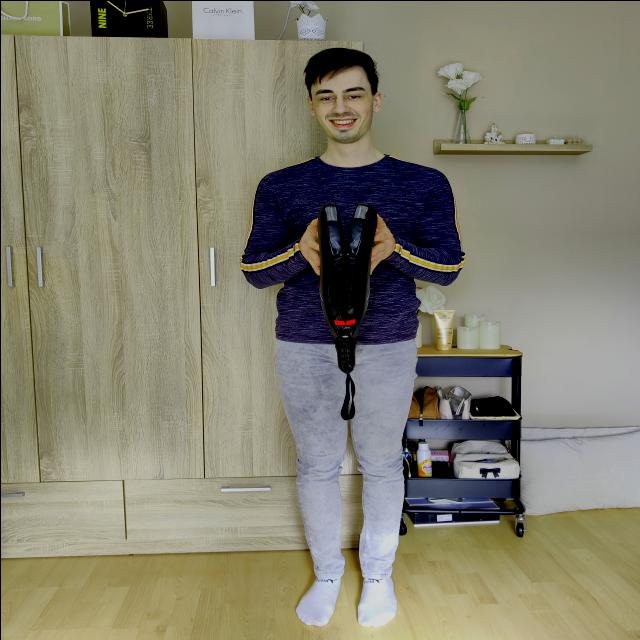paddle: (314, 198, 378, 372)
